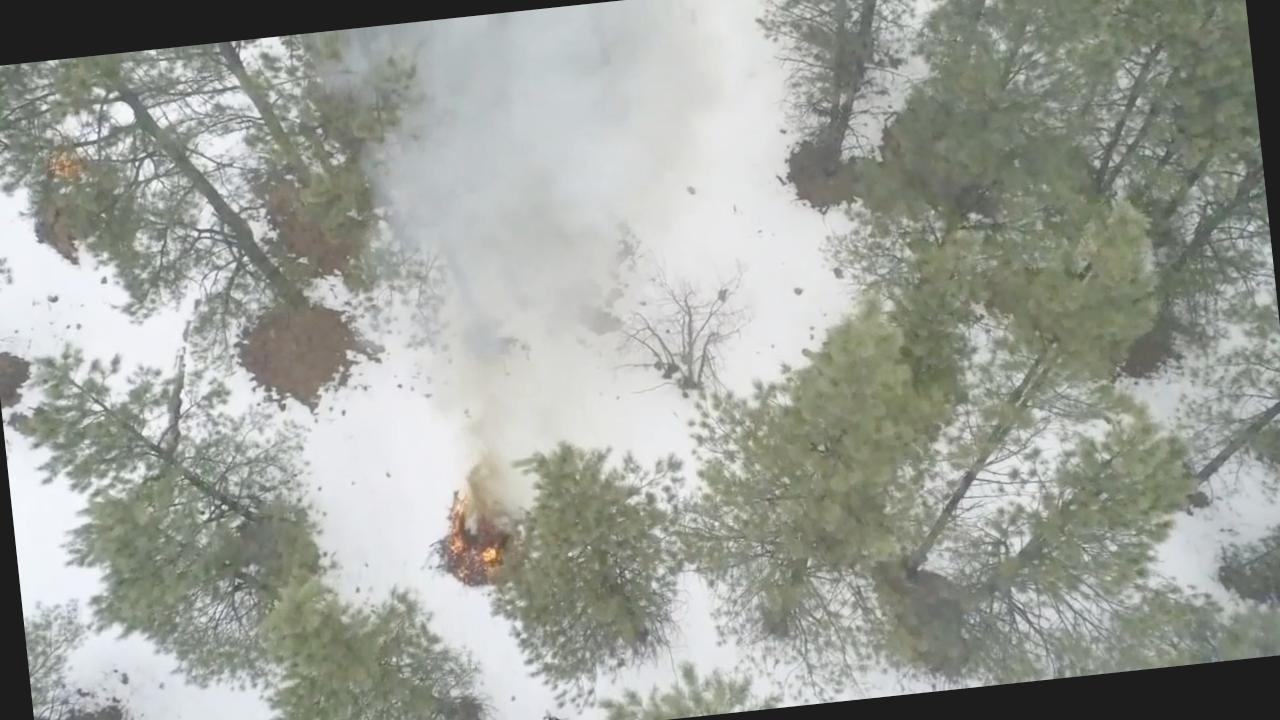fire: (441, 486, 512, 579)
smoke: (385, 0, 676, 279)
